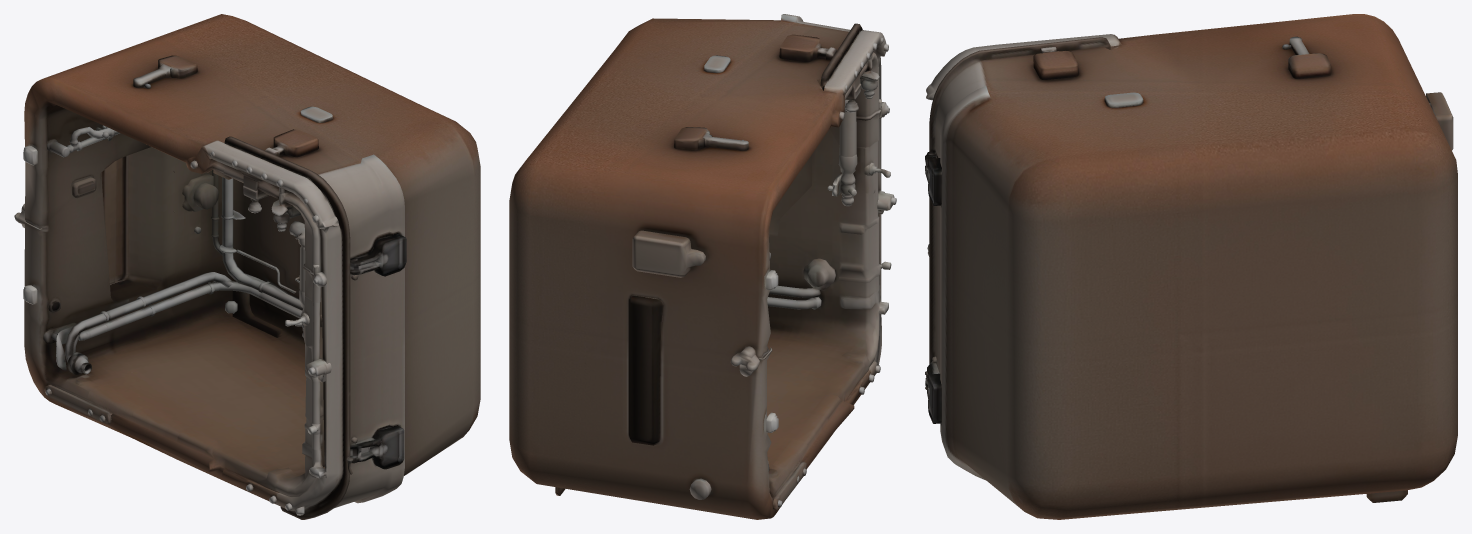
Rendered from tripo_convert_4557ce56-2434-4828-81a4-0a3b2cc41373.fbx.
The picture shows the model from 3 angles, left to right: view 1: azimuth 30°, elevation 25°; view 2: azimuth 150°, elevation 25°; view 3: azimuth 270°, elevation 25°; orthographic projection. The views are drawn at different scales.
Visible parts, largest first — view 1: tripo_node_4557ce56; view 2: tripo_node_4557ce56; view 3: tripo_node_4557ce56.
Part boxes in pixels (x1=…): tripo_node_4557ce56: x1=14, y1=14, x2=480, y2=519; tripo_node_4557ce56: x1=509, y1=14, x2=896, y2=519; tripo_node_4557ce56: x1=925, y1=14, x2=1457, y2=519.
Size of the model in its own units: 73.58 by 99.95 by 82.57.
1 material, 1 textured.
